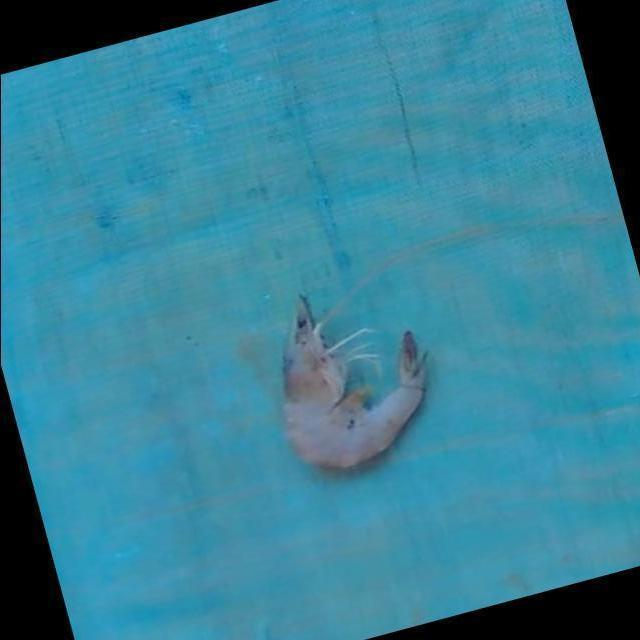shrimp: (284, 298, 425, 466)
